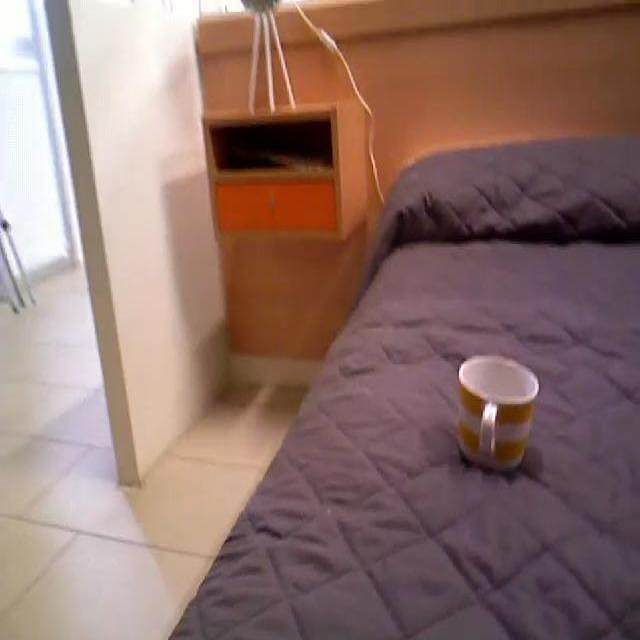cup: (453, 348, 542, 476)
